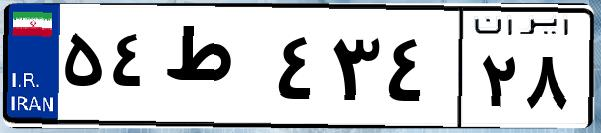2: (475, 38, 525, 113)
3: (330, 28, 385, 110)
4: (270, 28, 330, 110), (385, 28, 445, 110), (110, 28, 158, 98)
5: (57, 26, 110, 100)
8: (525, 38, 570, 115)
ط: (158, 20, 270, 120)
